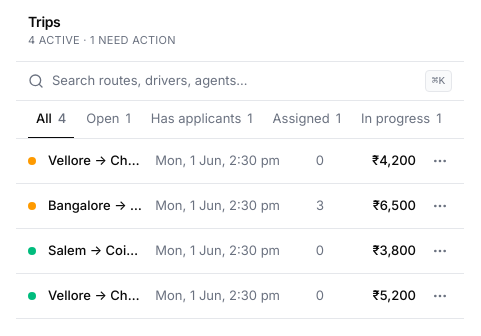
OperatorTripsListPage (v2) › filters by status when a tab is clicked
Step 1. Click the tab "Has applicants1" → (202, 120), box [143,101,261,138]
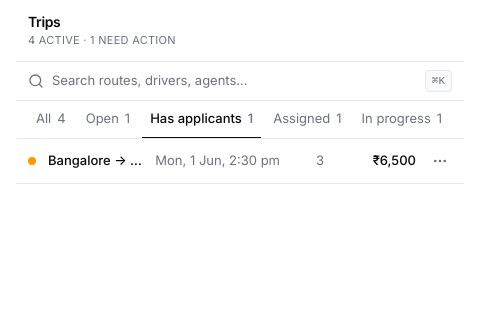
Expected: the text "Bangalore → Tirupati" is shown, [48,151,143,170]
Now the link "Salem" is gone
